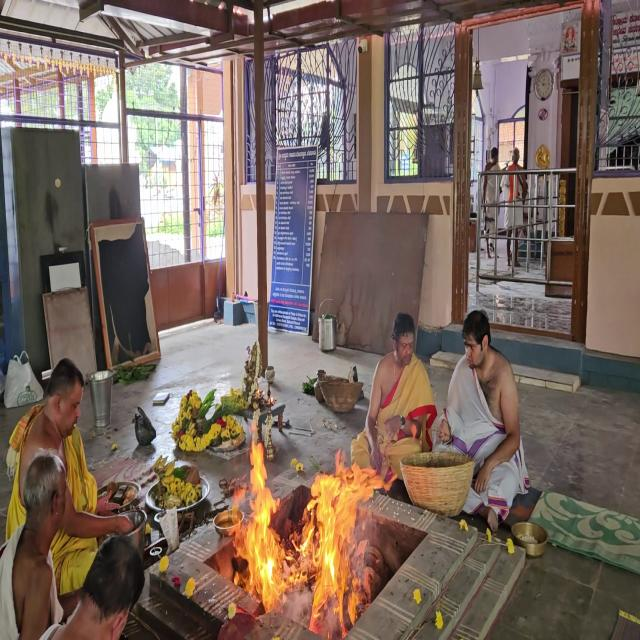fire: (190, 433, 398, 636)
